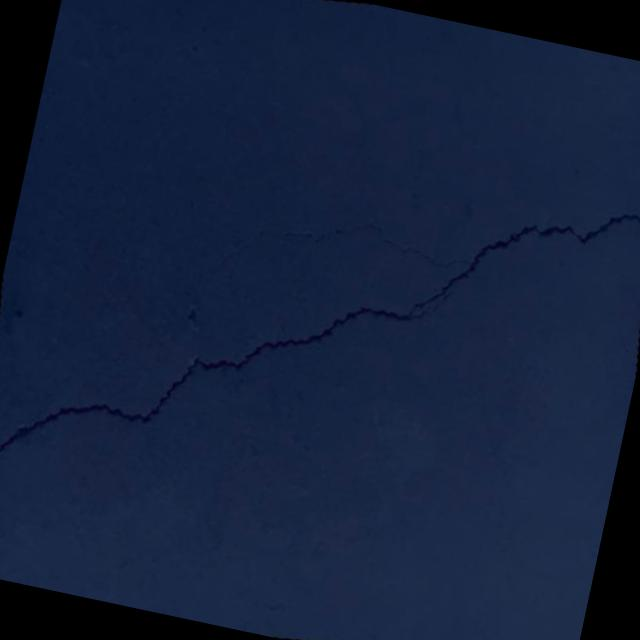crack: (0, 85, 640, 584)
